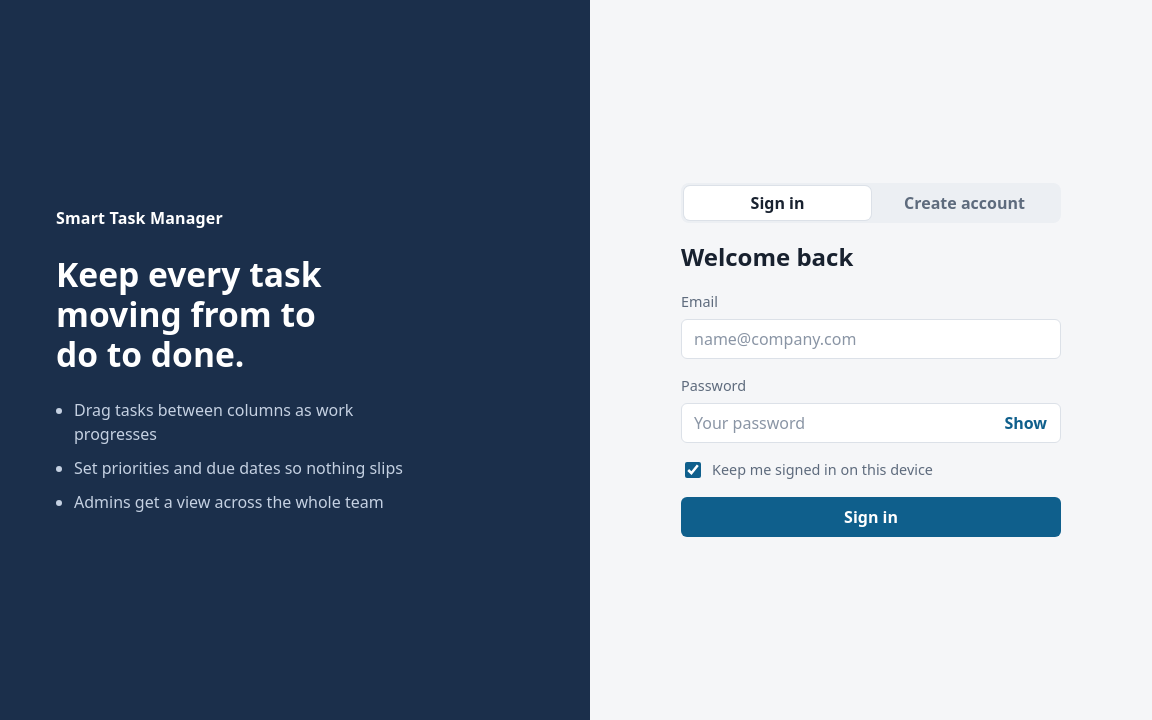
Test: create account shows the extra fields and the password checklist
The width and height of the screenshot is (1152, 720).
Click the tab "Create account" at (964, 203), box [871,186,1058,220]
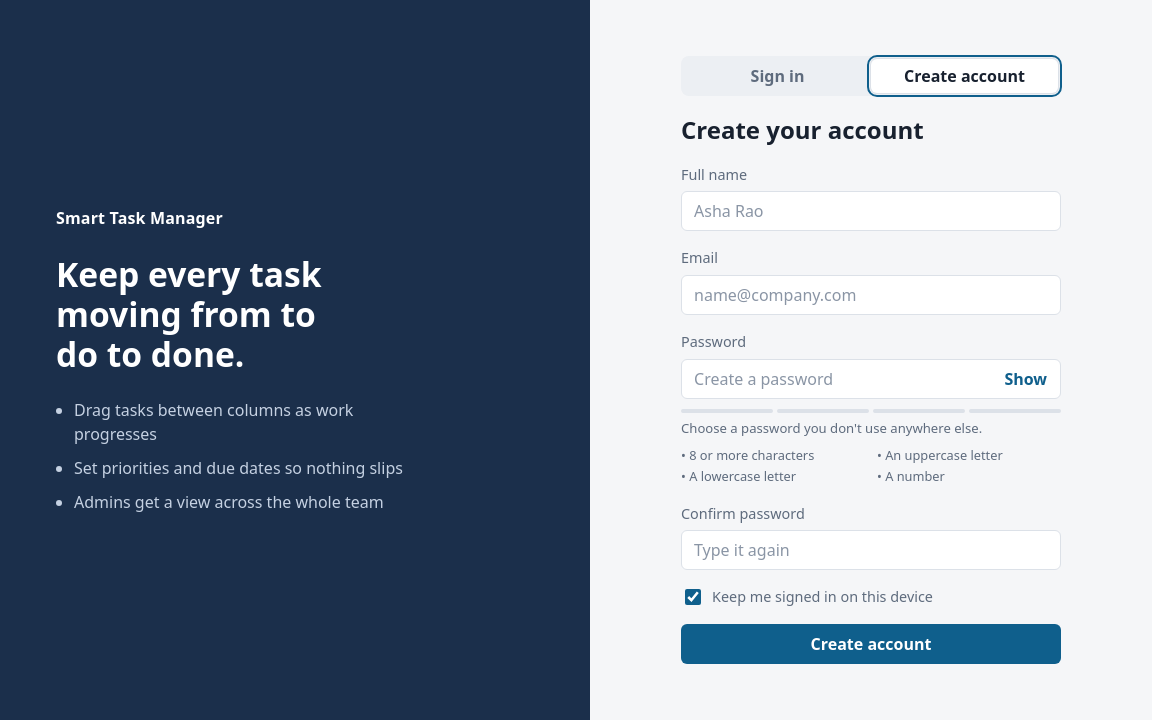
Now the field labelled "Full name" is shown, box [681,191,1061,231]
Now the password field labelled "Confirm password" is shown, box [681,530,1061,570]
Type "Passw0rdOK" into the password field labelled "Password" at (871, 379), box [681,359,1061,399]
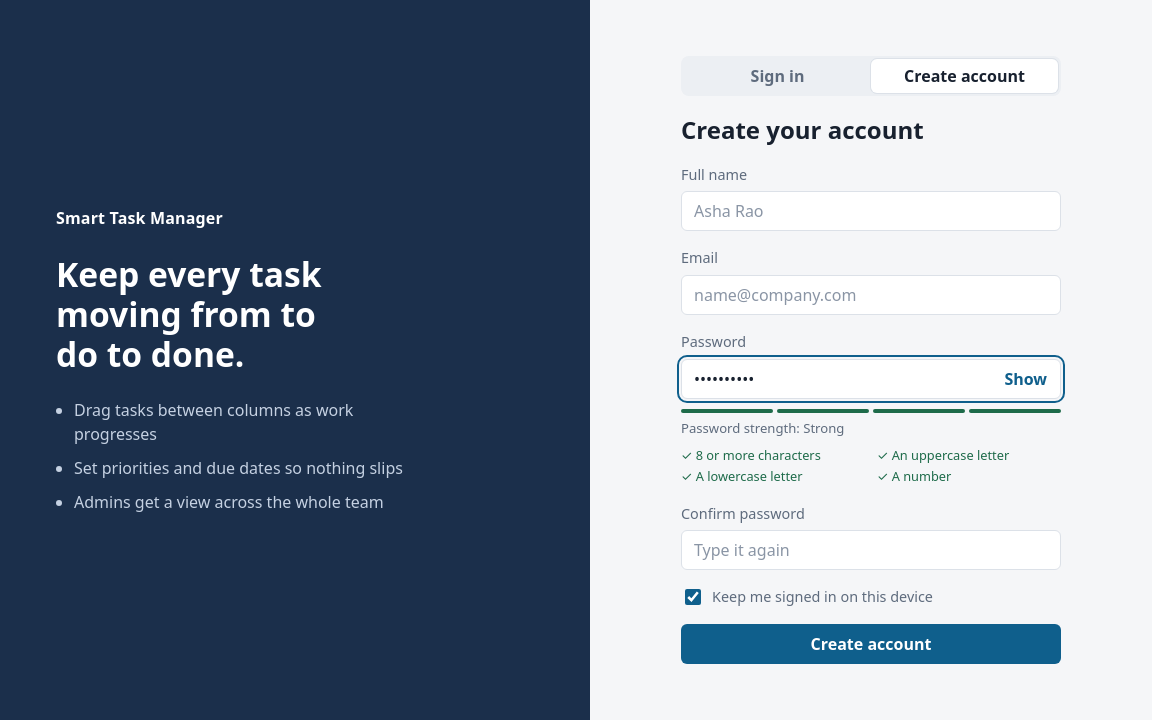
Now the text "Password strength: Strong" is shown, box [681,419,844,437]
